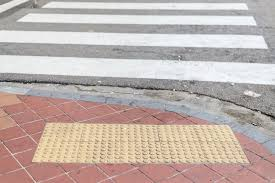guide_blocks: (37, 123, 249, 164)
